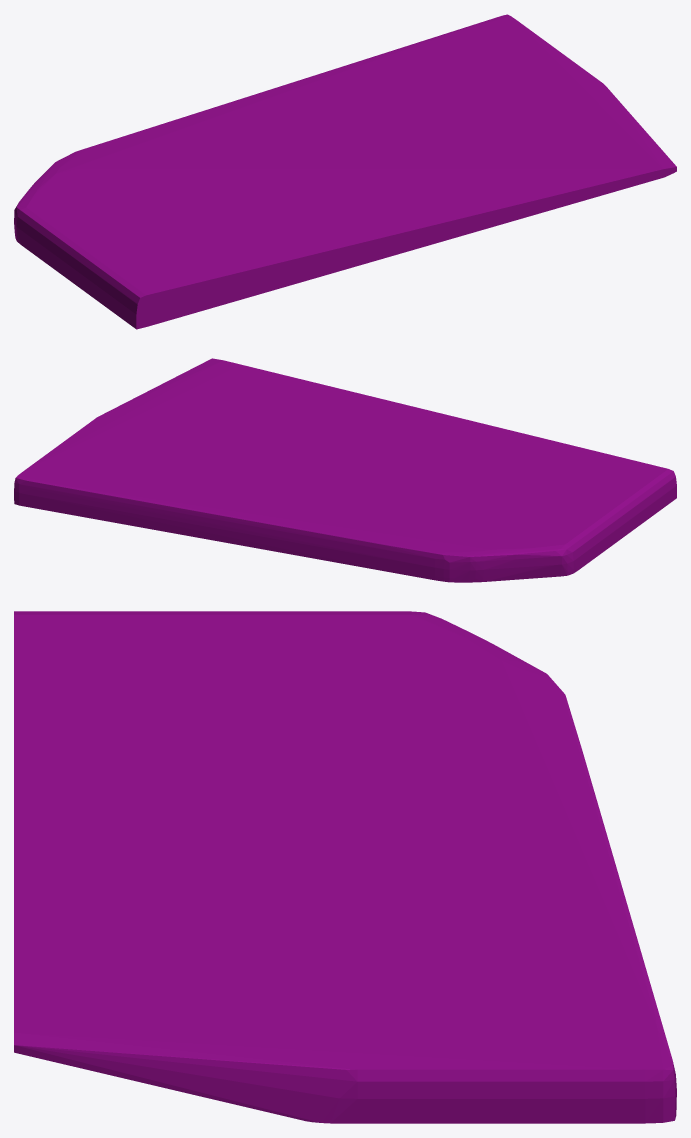
File: left-elbow-0_part_14.obj
3 renders of one model, top to bottom at view 1: azimuth 30°, elevation 25°; view 2: azimuth 150°, elevation 25°; view 3: azimuth 270°, elevation 25°, orthographic. The views are drawn at different scales.
Size of the model in its own units: 0.0556 by 0.00293 by 0.0336.
